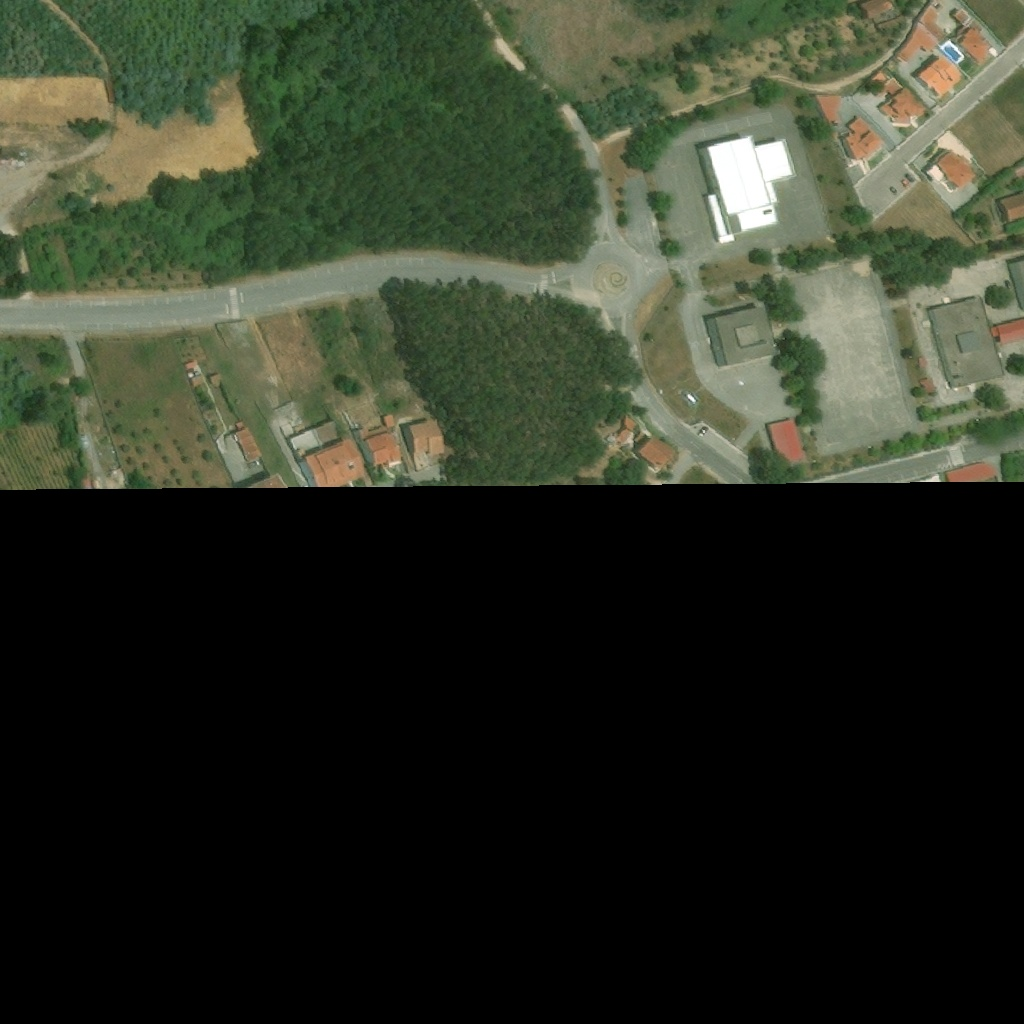0 no-damage: (700, 134, 796, 244), (927, 296, 1003, 386), (703, 305, 777, 368), (304, 436, 369, 479), (399, 413, 446, 471), (923, 148, 977, 194), (287, 417, 342, 457), (877, 78, 927, 120), (359, 415, 401, 465), (632, 433, 679, 476), (840, 116, 883, 158), (919, 56, 963, 95), (766, 417, 802, 460), (899, 22, 938, 54), (234, 421, 261, 462), (959, 28, 991, 62), (937, 460, 999, 474), (991, 318, 1023, 343), (999, 191, 1023, 222), (815, 94, 841, 122), (617, 415, 637, 444), (860, 0, 893, 17), (952, 9, 970, 23), (183, 358, 198, 371), (189, 375, 204, 387), (209, 374, 222, 386), (605, 432, 617, 444)
4 un-classified: (1004, 255, 1023, 312)
